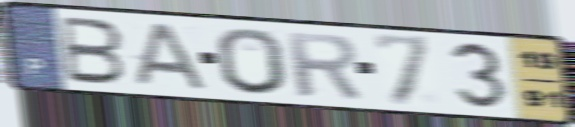3: (448, 39, 512, 112)
7: (371, 30, 435, 109)
A: (126, 22, 212, 93)
B: (59, 14, 128, 87)
O: (213, 25, 290, 97)
R: (281, 29, 365, 101)
